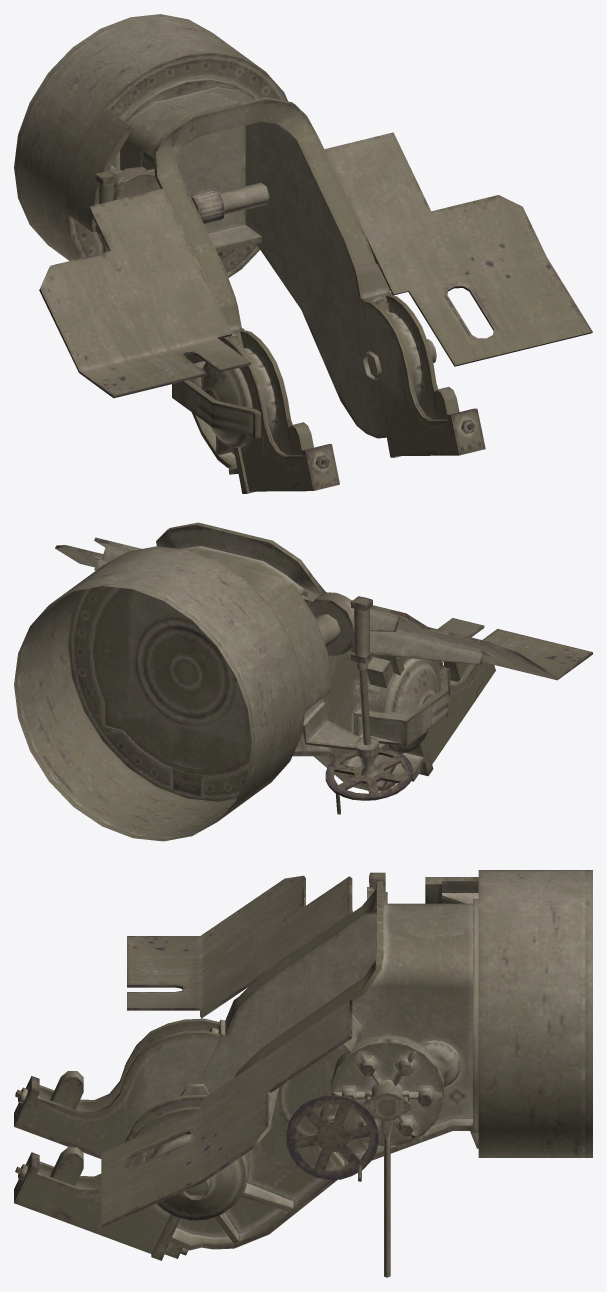
Rendered from Turret_01.glb.
3 renders of one model, top to bottom at view 1: azimuth 30°, elevation 25°; view 2: azimuth 150°, elevation 25°; view 3: azimuth 270°, elevation 25°, orthographic. The views are drawn at different scales.
Parts seen in each view (by area): view 1: set_0_group_0; view 2: set_0_group_0; view 3: set_0_group_0.
Boxes of the visible parts, box(x1,y1,x2,y2) form: set_0_group_0: box(14, 14, 592, 493); set_0_group_0: box(14, 522, 592, 841); set_0_group_0: box(14, 870, 592, 1277).
Size of the model in its own units: 2.17 by 1.37 by 2.16.
Materials: 1 (1 with a texture image).
